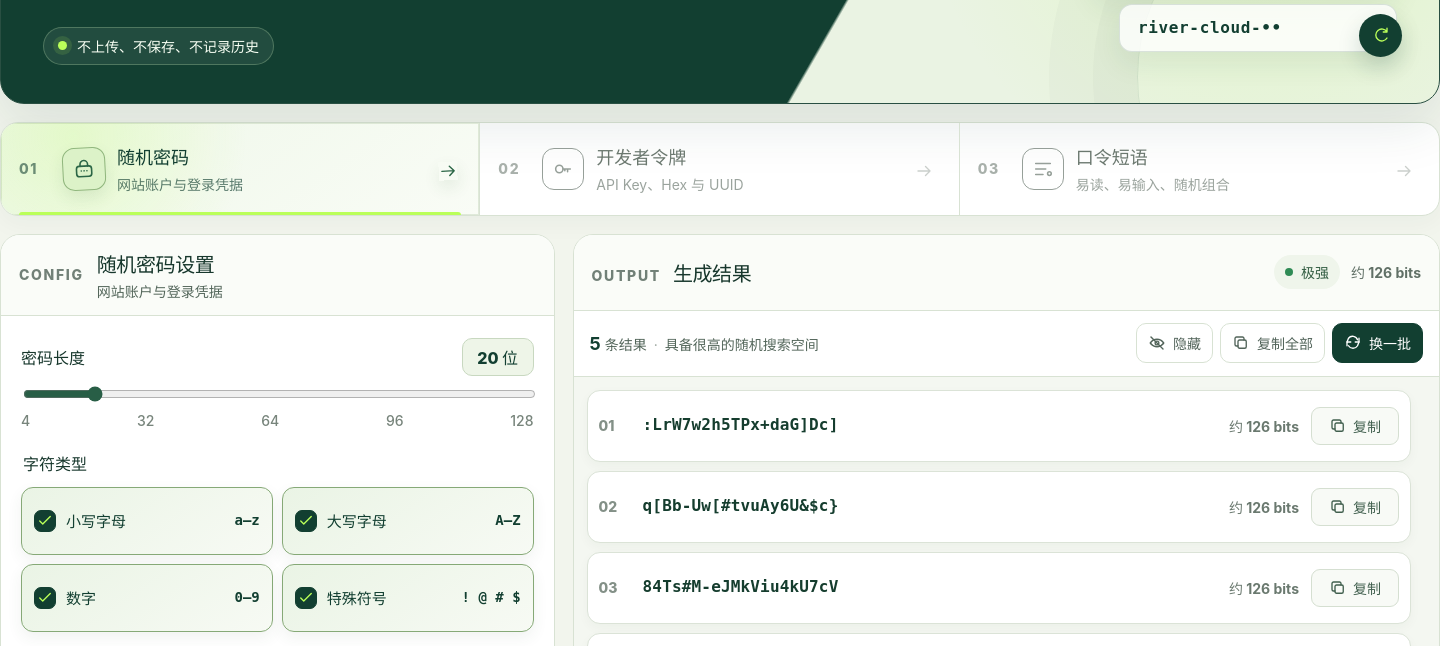
Scenario: PasswordGeneratorTool › hides values without changing what is copied
Click the button "隐藏".
click(1174, 343)  # box [1136, 323, 1213, 363]
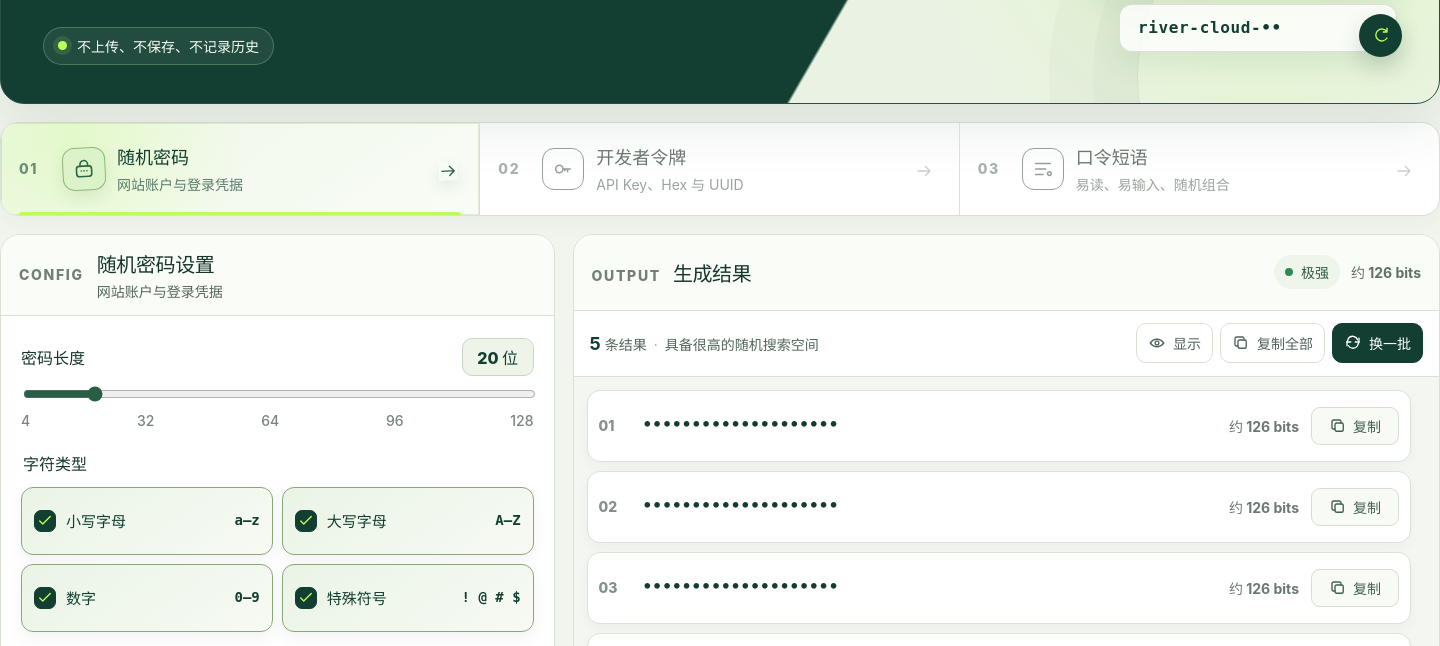
Expected: the 1st text "••••••••••••••••••••" is shown, [643, 415, 838, 434]
Click the button named "复制第 1 条结果".
click(1355, 426)  # box [1311, 407, 1399, 445]
(page scrolled)
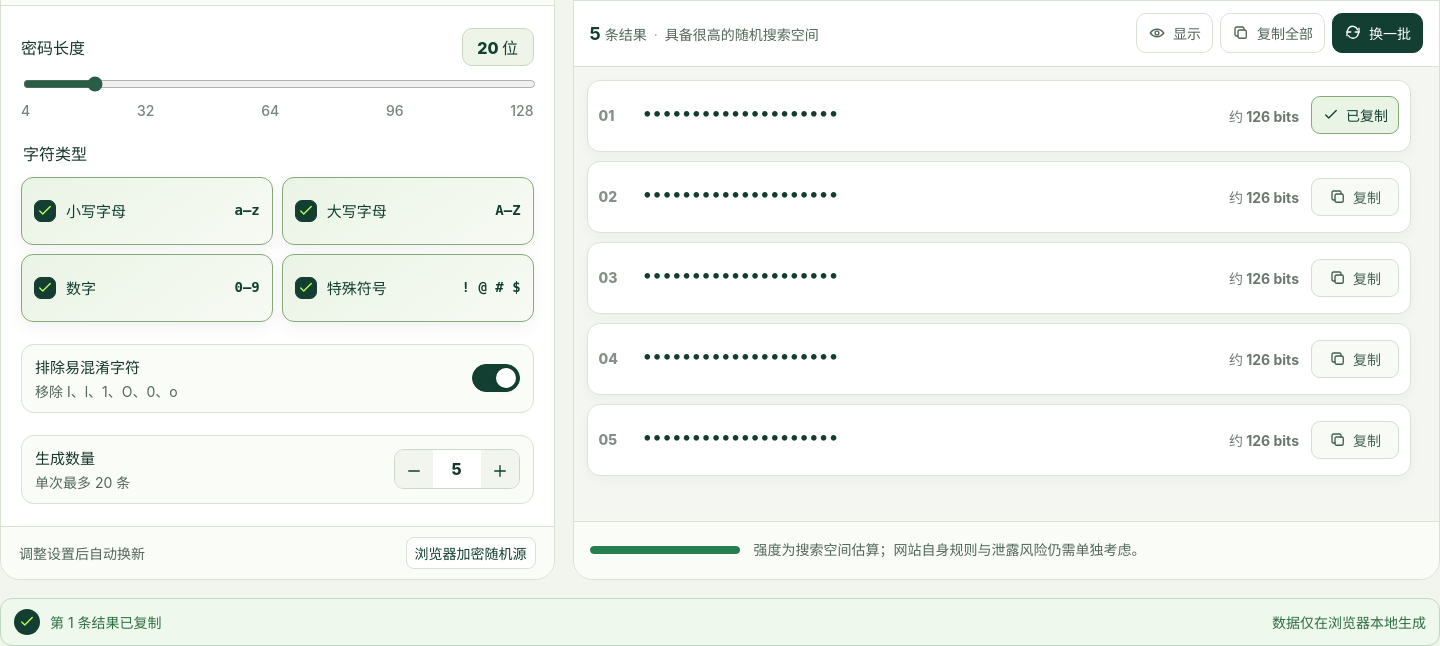
Expected: the text "第 1 条结果已复制" is shown, [50, 612, 162, 632]
